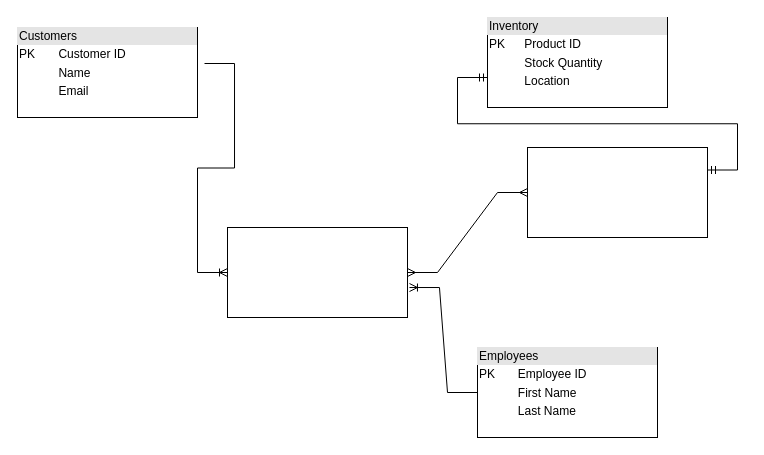
This 764x455 diagram has some shape labels left out. Each missing label, with the centre of its shape:
"Orders PK Order ID FK Customer ID Order Date" belongs at (x=317, y=272).
"Products PK Product ID Product Name Price" belongs at (x=617, y=192).
